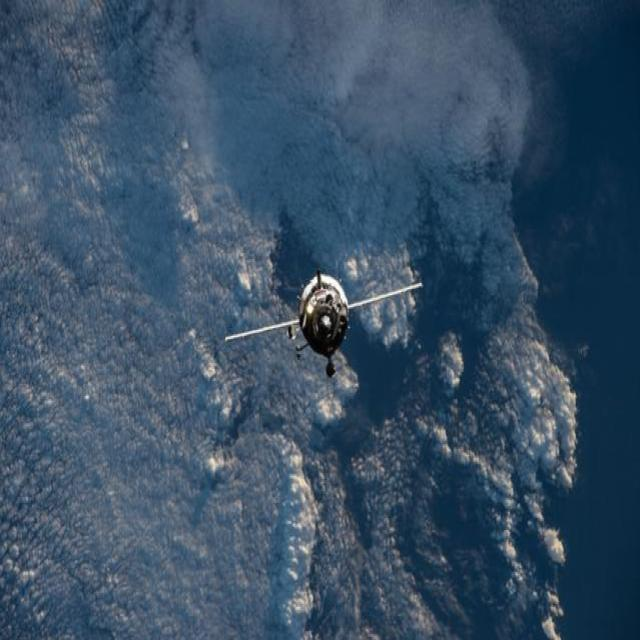satellite: (225, 271, 421, 377)
